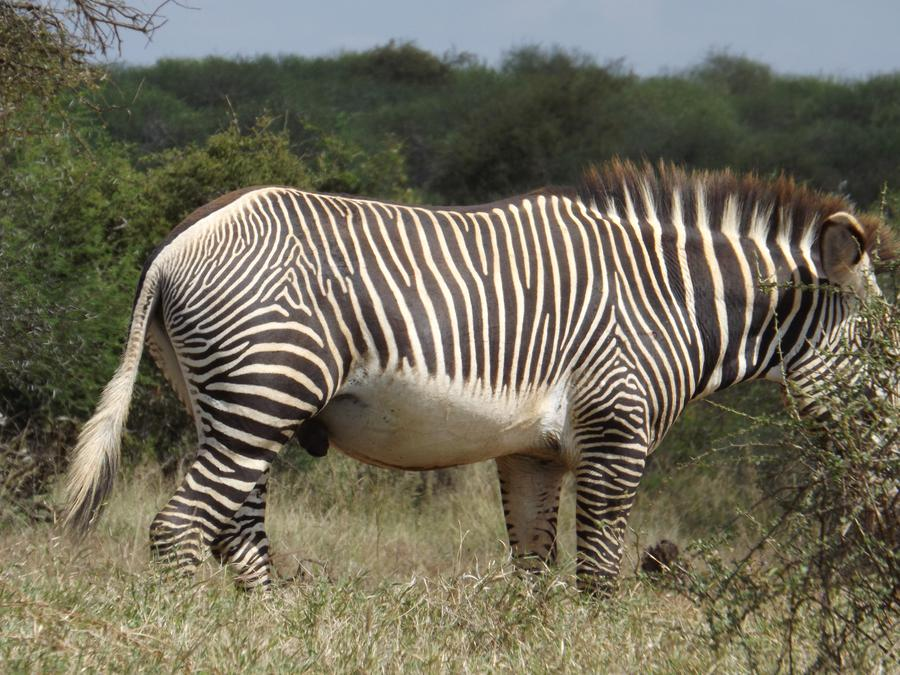zebra_grevys: (125, 168, 653, 467)
